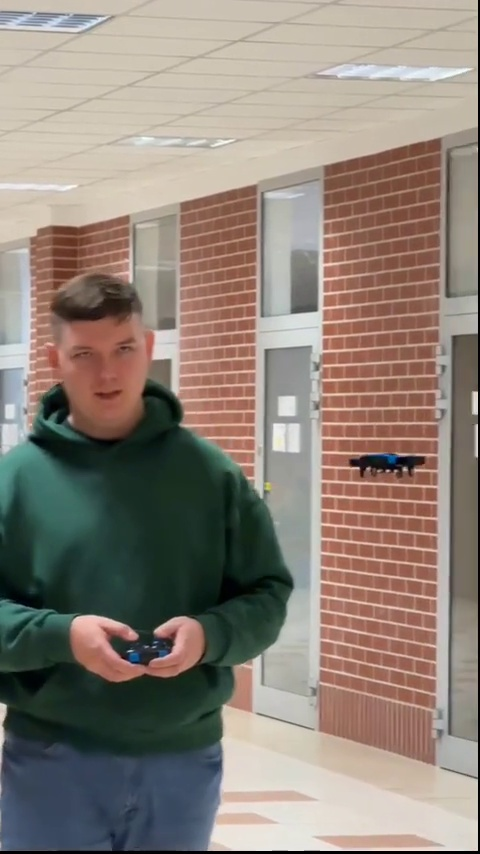drone: (347, 450, 430, 480)
no vest: (0, 272, 298, 829)
